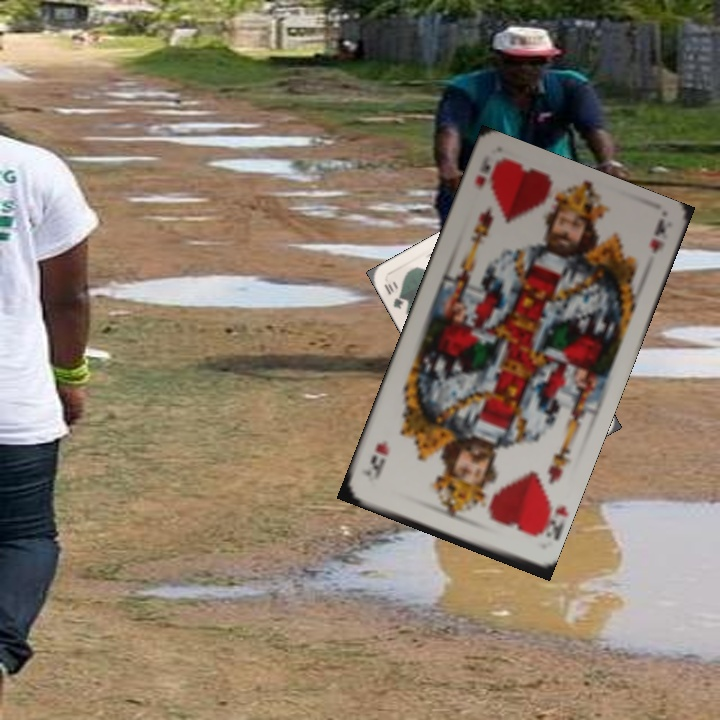G10: (380, 279, 407, 311)
HK: (529, 490, 565, 541), (471, 153, 493, 194)
